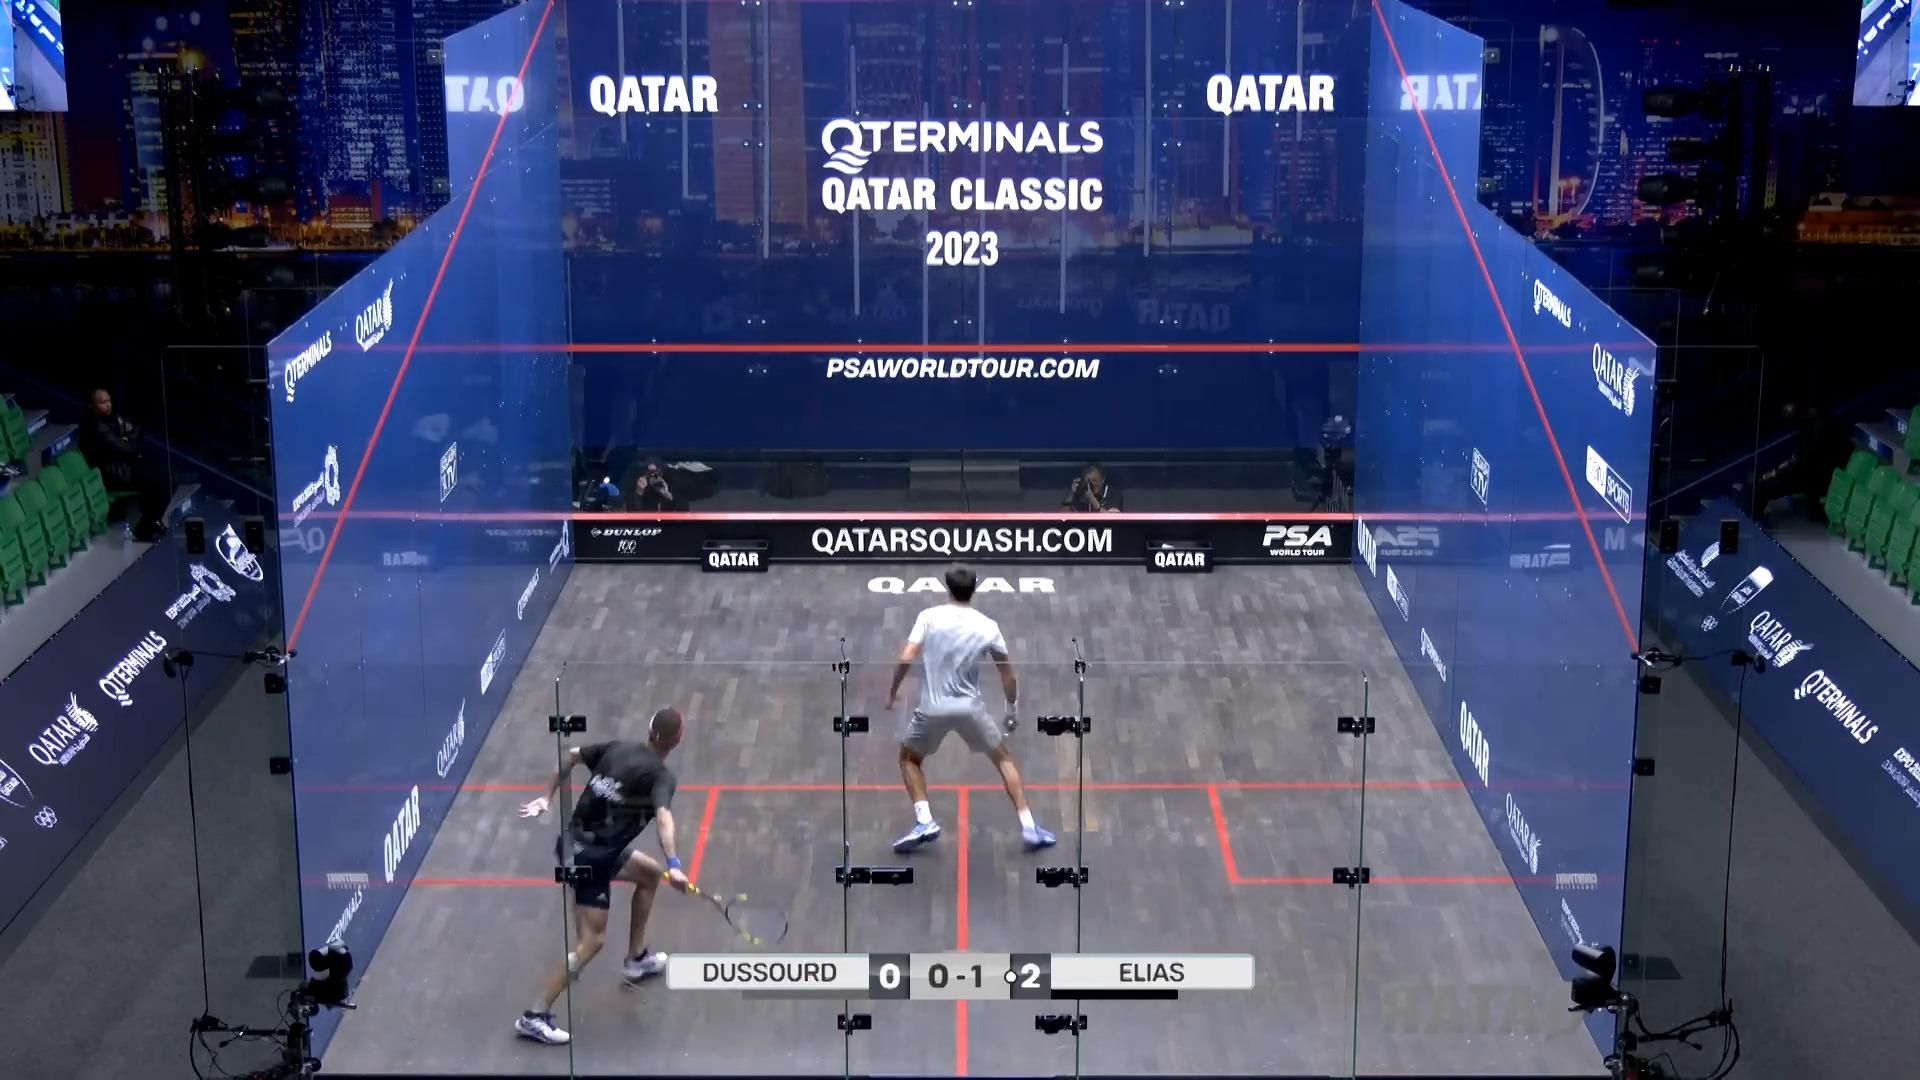Racket: (676, 868, 794, 953)
